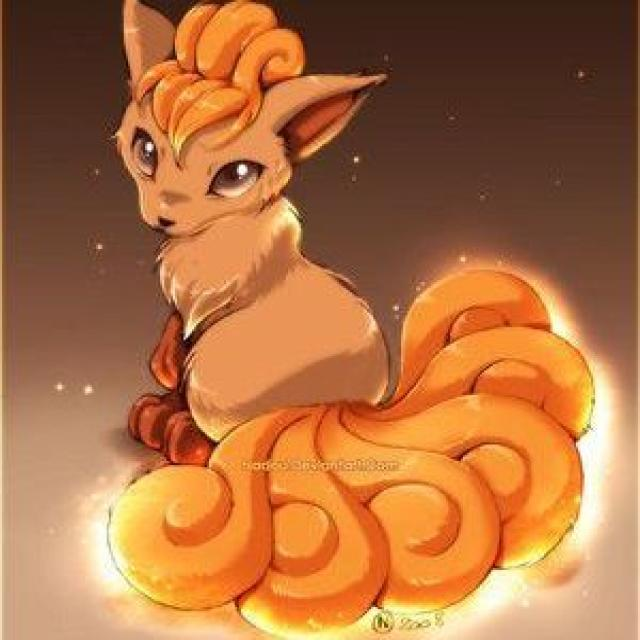Vulpix: (121, 0, 438, 504)
